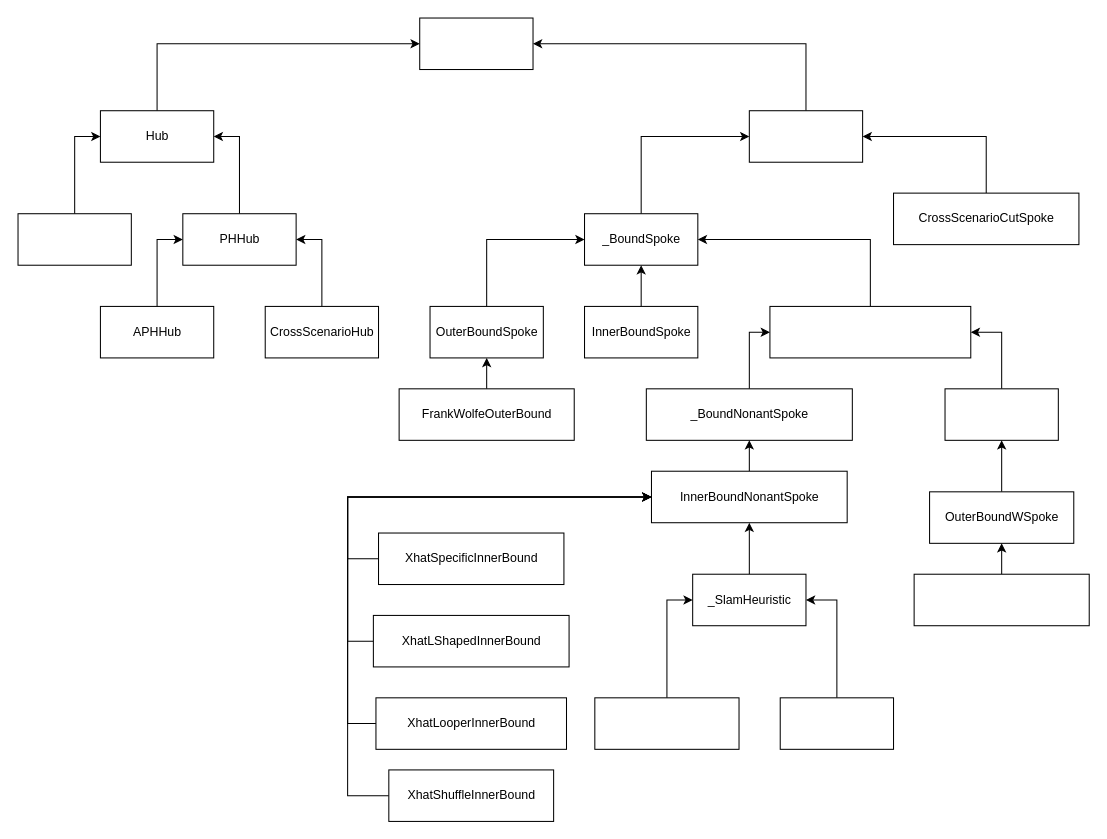
Image size: 1107x839. Some labels were removed from this diagram. Here are the shapes that lost their labels. From the top down, the box of each, then its label:
(419, 17, 533, 70): SPCommunicator
(748, 110, 863, 162): Spoke
(17, 213, 131, 265): LShapedHub
(769, 305, 971, 358): _BoundNonantLenSpoke
(944, 388, 1058, 440): _BoundWSpoke
(913, 573, 1089, 626): LagrangianOuterBound
(594, 697, 739, 749): SlamDownHeuristic
(779, 697, 894, 749): SlamUpHeuristic
